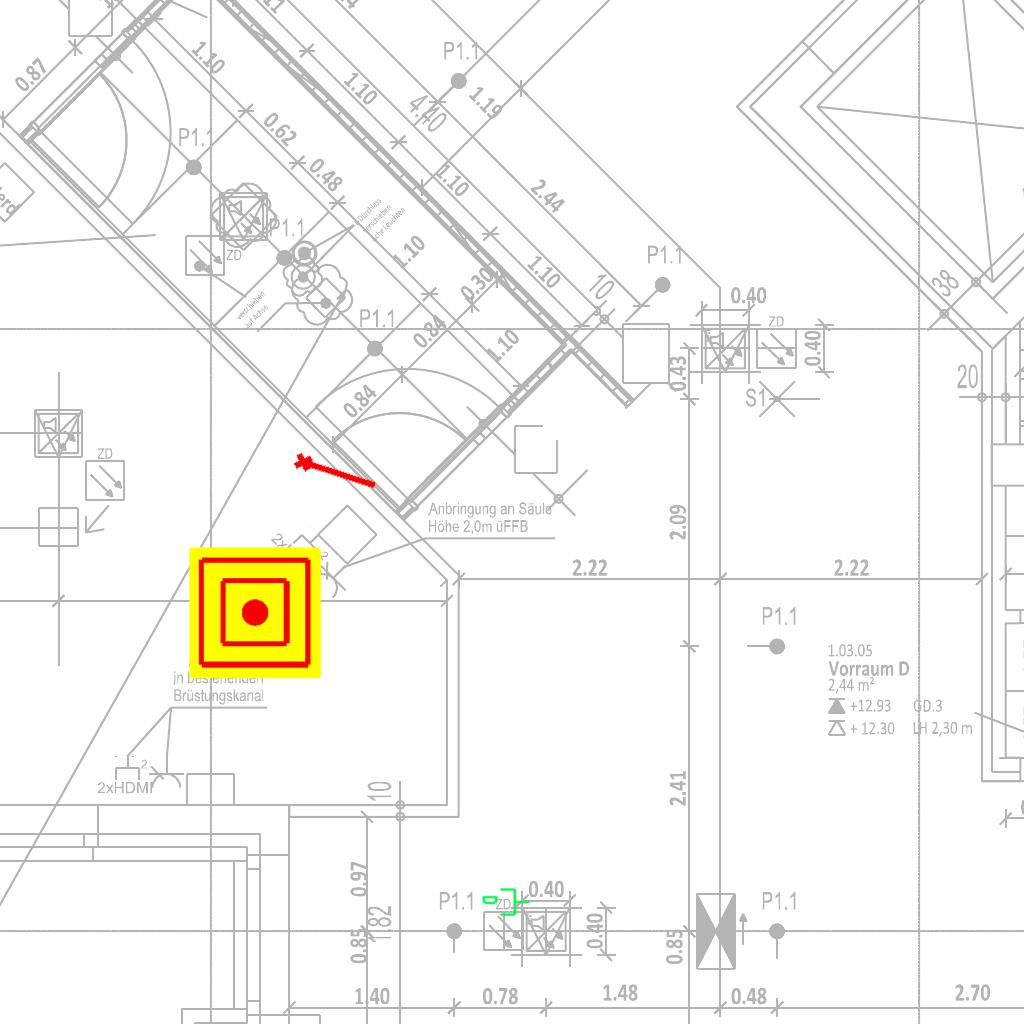ASR_Ansaugoeffnung: (290, 446, 382, 497)
Datenanschluss_einfach: (481, 886, 531, 920)
NAM-Nichtautomatischer_Melder: (189, 547, 321, 679)
